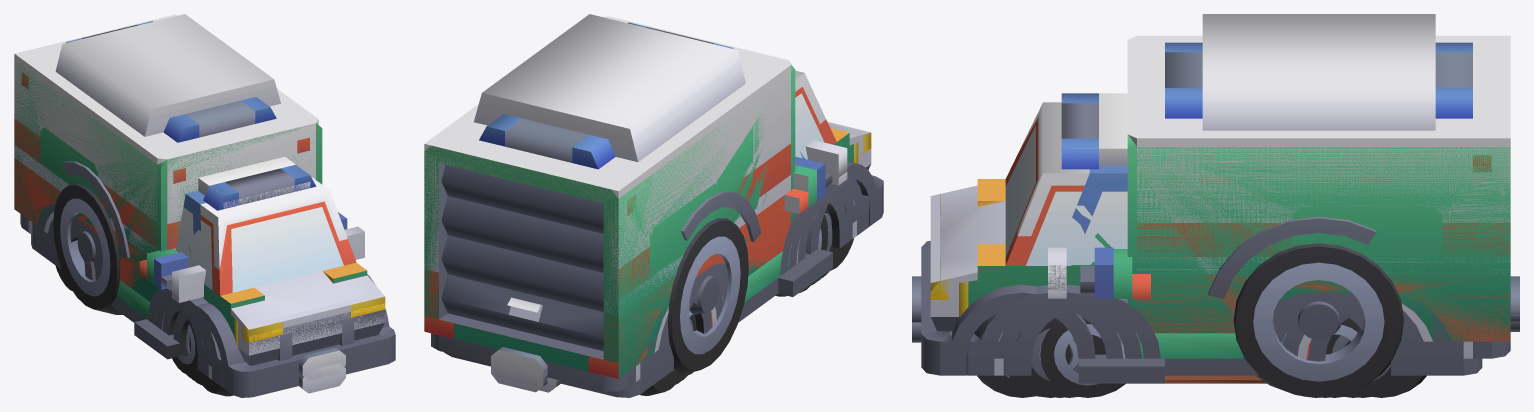
File: cars.glb
The picture shows the model from 3 angles, left to right: view 1: azimuth 30°, elevation 25°; view 2: azimuth 150°, elevation 25°; view 3: azimuth 270°, elevation 25°; orthographic projection. The views are drawn at different scales.
Visible parts, largest first — view 1: body (×4), door, wheel-front-right (×4), wheel-back-left; view 2: body (×3), door, wheel-front-right (×4), wheel-back-left; view 3: body (×4), door, wheel-front-right (×4), wheel-back-left, box.
Part boxes in pixels (box(x1,y1,x2,y2)): body (×4): box(14, 14, 395, 396); door: box(14, 60, 395, 397); wheel-front-right (×4): box(53, 161, 347, 377); wheel-back-left: box(28, 212, 354, 382); body (×3): box(424, 14, 883, 397); door: box(424, 62, 883, 391); wheel-front-right (×4): box(558, 145, 852, 385); wheel-back-left: box(636, 173, 856, 385); body (×4): box(912, 14, 1519, 397); door: box(912, 93, 1519, 397); wheel-front-right (×4): box(1003, 165, 1409, 397); wheel-back-left: box(994, 266, 1472, 397); box: box(1165, 375, 1266, 383).
Bounding box in the file's own units: 1.5 × 1.8 × 3.25.
Materials: 1 (1 with a texture image).
